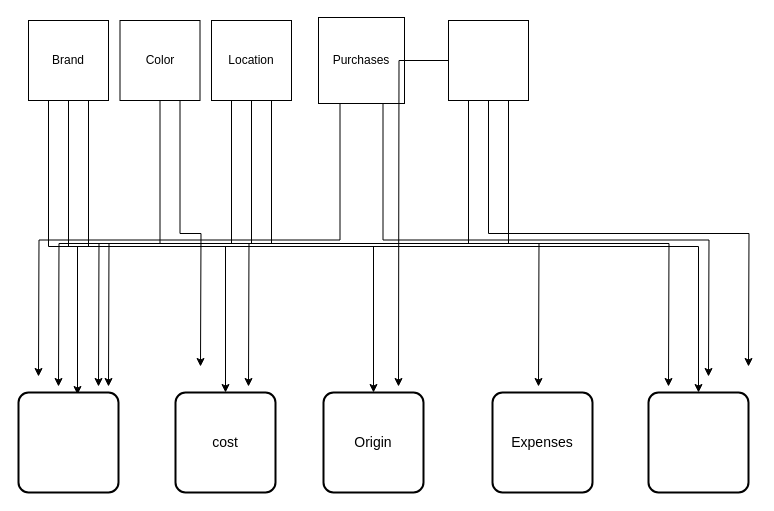
Image size: 774x511. Some labels were removed from this diagram. The centre of each missing label's shape, as x and y in pixels:
"Profit" belongs at pixel 698 442.
"Total Sold" belongs at pixel 68 442.
"Type" belongs at pixel 488 60.
